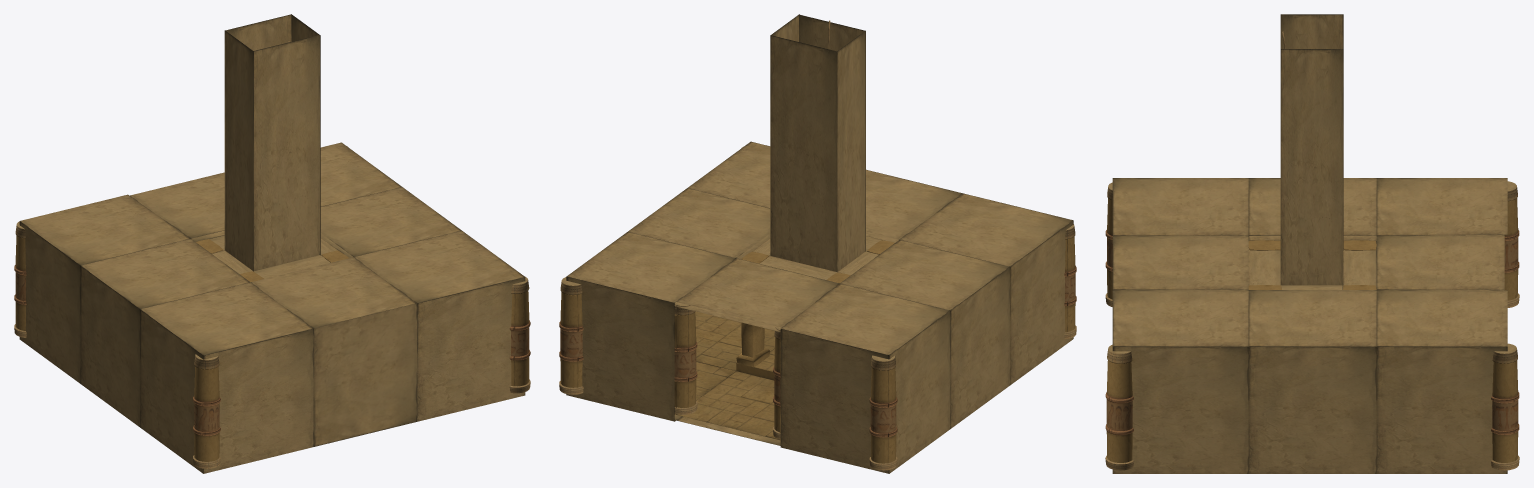
The model's file is m_EndRoom01.FBX.
The picture shows the model from 3 angles, left to right: view 1: azimuth 30°, elevation 25°; view 2: azimuth 150°, elevation 25°; view 3: azimuth 270°, elevation 25°; orthographic projection. The views are drawn at different scales.
Visible parts, largest first — view 1: m_Room01; view 2: m_Room01; view 3: m_Room01.
Part boxes in pixels (bbox=[...]): m_Room01: bbox=[14, 14, 530, 473]; m_Room01: bbox=[559, 14, 1076, 473]; m_Room01: bbox=[1105, 14, 1519, 473].
Size of the model in its own units: 324 by 324 by 310.
1 material, 1 textured.
